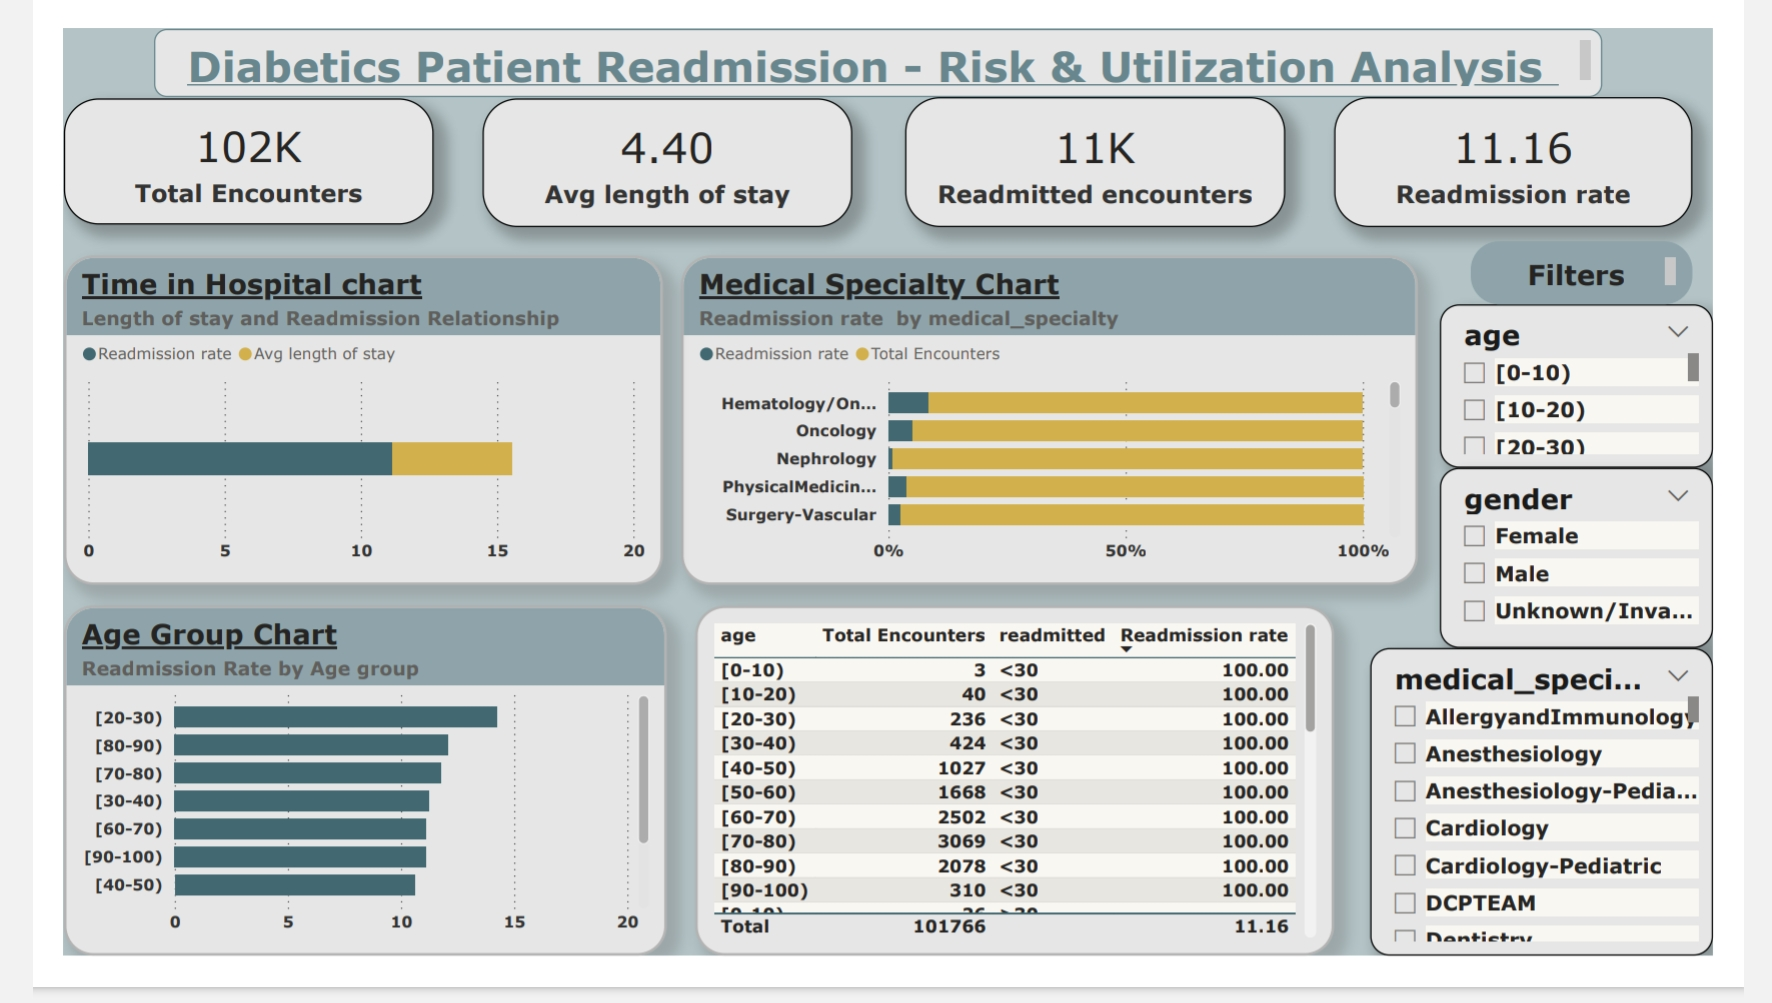

This screenshot's page, from the dashboard's own definition file:
{"tool":"powerbi","page":{"name":"Page 1","canvas":[1280,720],"ordinal":0},"visuals":[{"type":"card","fields":{"Values":["diabetic_data.Total Encounters"]},"box":[0,54.1,286.8,98],"z":0},{"type":"card","fields":{"Values":["diabetic_data.Readmitted encounters"]},"box":[652.7,52.7,295.6,101],"z":1000},{"type":"card","fields":{"Values":["diabetic_data.Avg length of stay"]},"box":[324.9,54.1,286.8,99.5],"z":2000},{"type":"card","fields":{"Values":["diabetic_data.Readmission rate"]},"box":[986.3,52.7,278,101],"z":3000},{"type":"clusteredBarChart","title":"Age Group Chart","fields":{"Category":["diabetic_data.age"],"Y":["diabetic_data.Readmission rate"]},"box":[0,447.8,468.3,272.2],"z":4000},{"type":"hundredPercentStackedBarChart","title":"Medical Specialty Chart","fields":{"Category":["diabetic_data.medical_specialty"],"Y":["diabetic_data.Readmission rate","diabetic_data.Total Encounters"]},"box":[478.5,175.6,572.2,256.1],"z":5000},{"type":"barChart","title":"Time in Hospital chart","fields":{"Y":["diabetic_data.Readmission rate","diabetic_data.Avg length of stay"]},"box":[0,175.6,465.4,256.1],"z":6000},{"type":"slicer","fields":{"Values":["diabetic_data.age"]},"box":[1068.3,213.7,212.2,127.3],"z":7000},{"type":"slicer","fields":{"Values":["diabetic_data.gender"]},"box":[1068.3,341,212.2,140.5],"z":8000},{"type":"slicer","fields":{"Values":["diabetic_data.medical_specialty"]},"box":[1014.1,481.5,266.3,238.5],"z":9000},{"type":"tableEx","fields":{"Values":["diabetic_data.age","diabetic_data.Total Encounters","diabetic_data.readmitted","diabetic_data.Readmission rate"]},"box":[490.2,447.8,496.1,272.2],"z":10000},{"type":"textbox","box":[70.2,0,1123.9,52.7],"z":11000},{"type":"textbox","box":[1091.7,165.4,172.7,48.3],"z":11001}]}

Visuals, with their boxes in screenshot pixels (x1, y1, x2, y2), scaled from the page's 1280x720 canvas onto the 1772x1003 screenshot:
card - diabetic_data.Total Encounters: box=[0, 75, 397, 212]
card - diabetic_data.Readmitted encounters: box=[904, 73, 1313, 214]
card - diabetic_data.Avg length of stay: box=[450, 75, 847, 214]
card - diabetic_data.Readmission rate: box=[1365, 73, 1750, 214]
"Age Group Chart" clusteredBarChart: box=[0, 624, 648, 1002]
"Medical Specialty Chart" hundredPercentStackedBarChart: box=[662, 245, 1455, 601]
"Time in Hospital chart" barChart: box=[0, 245, 644, 601]
slicer - diabetic_data.age: box=[1479, 298, 1771, 475]
slicer - diabetic_data.gender: box=[1479, 475, 1771, 671]
slicer - diabetic_data.medical_specialty: box=[1404, 671, 1771, 1002]
tableEx - diabetic_data.age x diabetic_data.Total Encounters: box=[679, 624, 1365, 1002]
textbox: box=[97, 0, 1653, 73]
textbox: box=[1511, 230, 1750, 298]
